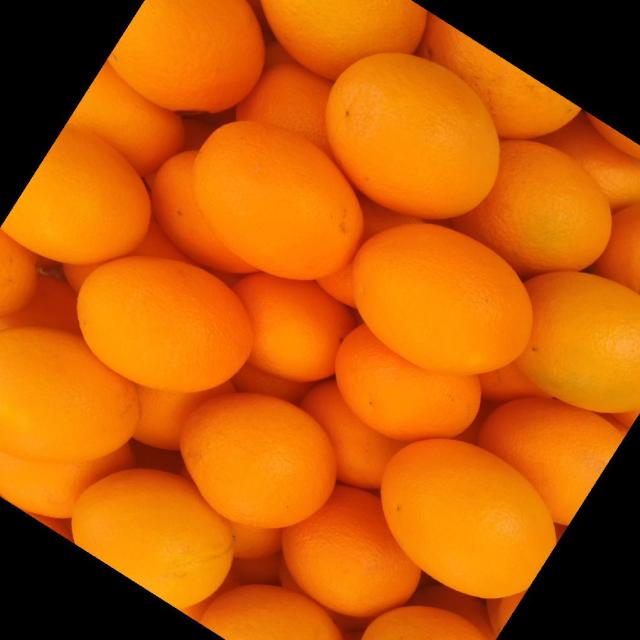fresh orange: (337, 205, 556, 412), (326, 53, 498, 214), (380, 440, 551, 598), (194, 123, 360, 278), (77, 257, 249, 392), (73, 469, 234, 607), (450, 143, 611, 276), (180, 395, 333, 528), (3, 129, 148, 263), (424, 14, 582, 136), (3, 330, 137, 466), (482, 399, 622, 526), (283, 488, 419, 618), (335, 325, 483, 442), (111, 1, 263, 111), (518, 271, 636, 411), (152, 150, 264, 274), (233, 273, 352, 382), (260, 2, 426, 79), (67, 64, 182, 174), (302, 381, 410, 490), (2, 440, 127, 520), (237, 64, 337, 158), (542, 113, 640, 205)
